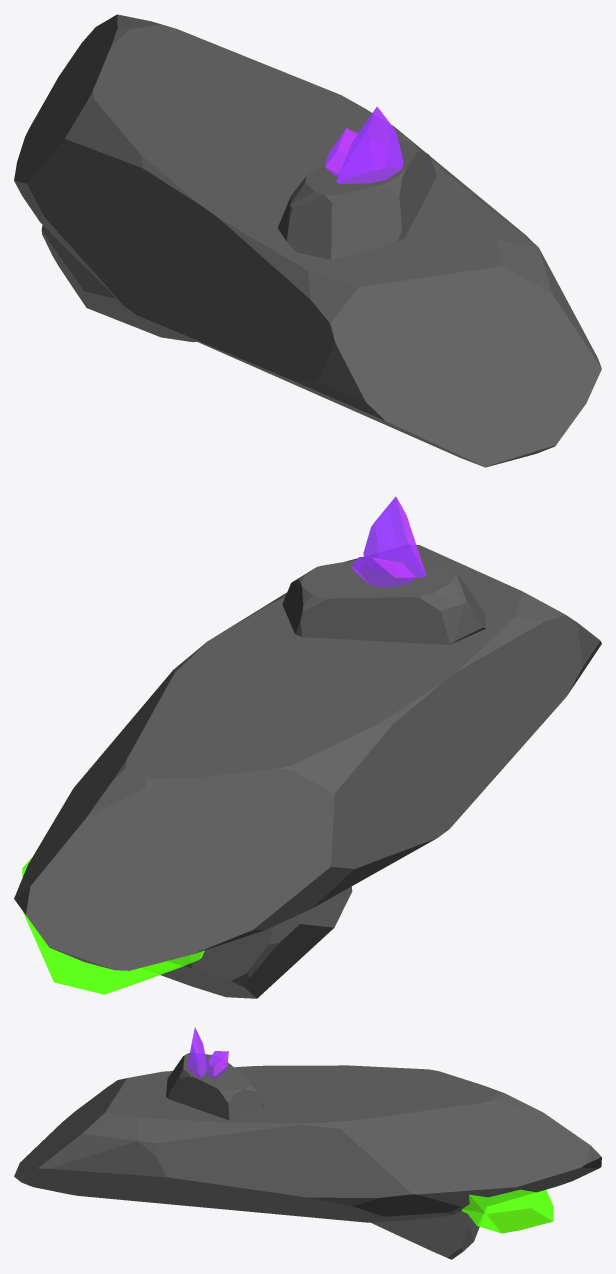
Rendered from Plateforme_A.fbx.
The picture shows the model from 3 angles, top to bottom: view 1: azimuth 30°, elevation 25°; view 2: azimuth 150°, elevation 25°; view 3: azimuth 270°, elevation 25°; orthographic projection. The views are drawn at different scales.
Parts seen in each view (by area): view 1: Icosphere.014, Icosphere.013; view 2: Icosphere.014, Icosphere.013, Icosphere.010; view 3: Icosphere.014, Icosphere.010, Icosphere.013.
Part boxes in pixels (x1,y1,x2,y2): Icosphere.014: (14, 14, 601, 467); Icosphere.013: (325, 106, 403, 184); Icosphere.014: (14, 545, 601, 998); Icosphere.013: (351, 496, 426, 587); Icosphere.010: (22, 857, 204, 994); Icosphere.014: (14, 1053, 601, 1259); Icosphere.010: (461, 1189, 553, 1233); Icosphere.013: (188, 1027, 228, 1078).
Size of the model in its own units: 548 by 640 by 1538.
